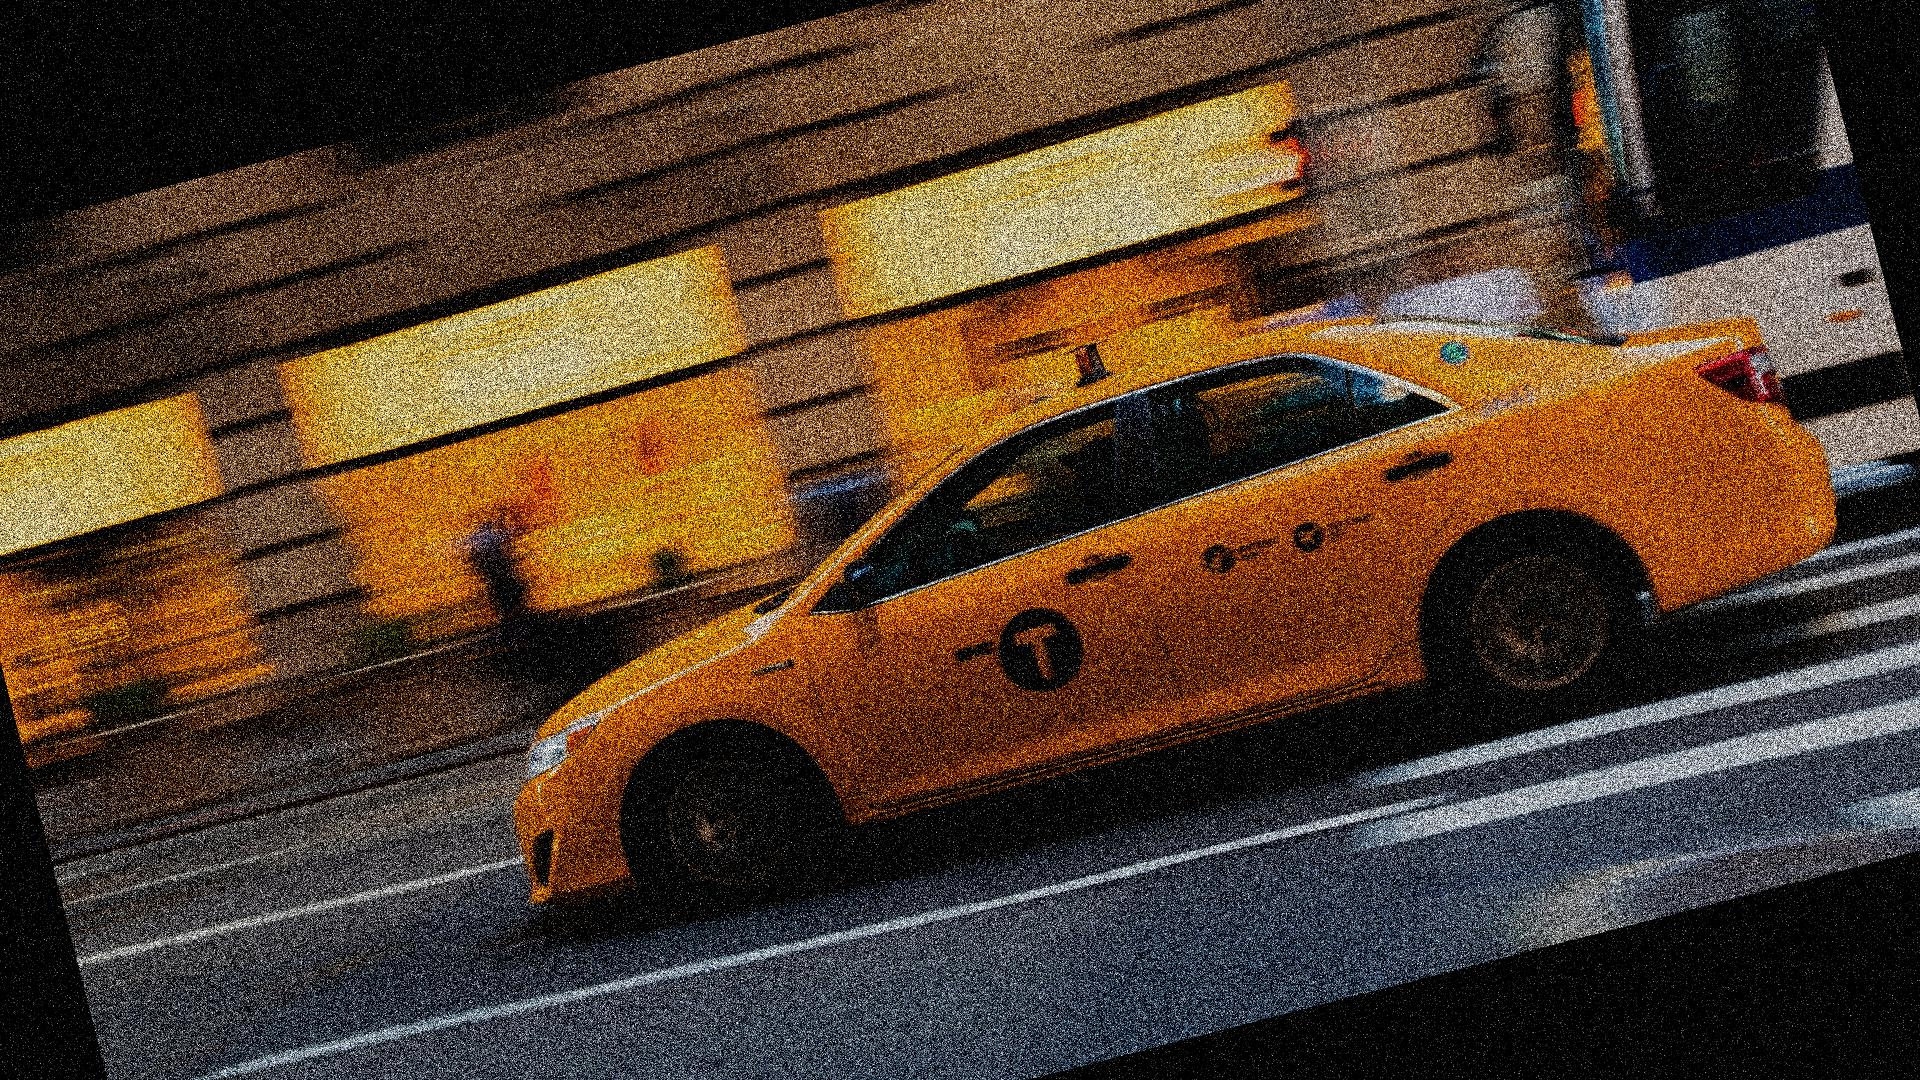taxi: (520, 247, 1850, 923)
